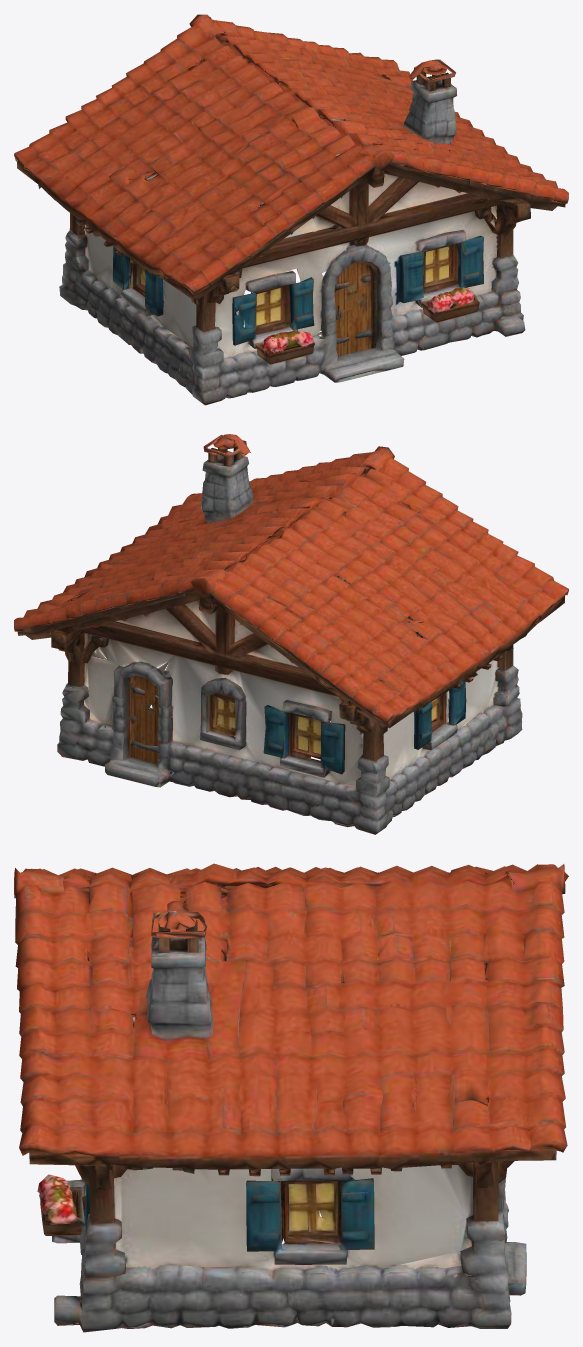
3 renders of one model, top to bottom at view 1: azimuth 30°, elevation 25°; view 2: azimuth 150°, elevation 25°; view 3: azimuth 270°, elevation 25°, orthographic. The views are drawn at different scales.
Parts seen in each view (by area): view 1: alpine__villa_1__native_mobile; view 2: alpine__villa_1__native_mobile; view 3: alpine__villa_1__native_mobile.
Boxes of the visible parts, <box> form: alpine__villa_1__native_mobile: <box>14,14,568,405</box>; alpine__villa_1__native_mobile: <box>14,434,568,834</box>; alpine__villa_1__native_mobile: <box>14,863,568,1332</box>.
Bounding box in the file's own units: 1 × 0.6422 × 0.8287.
1 material, 1 textured.
